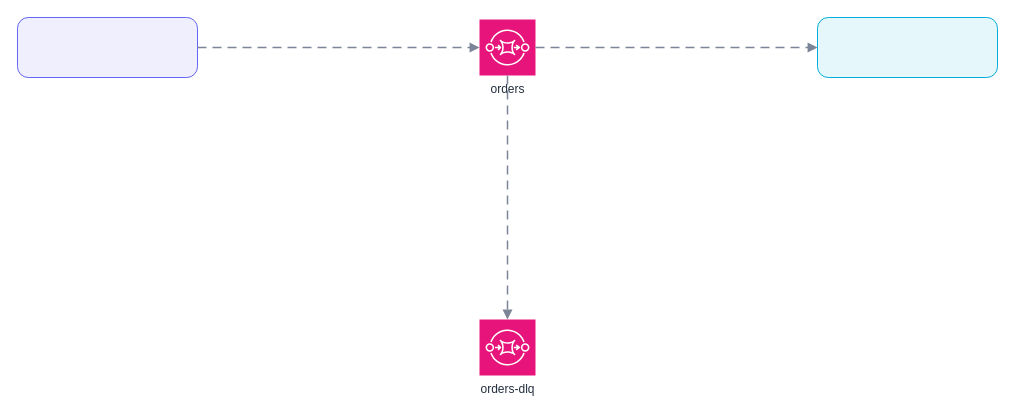
This 1015x414 diagram has some shape labels left out. The shapes that lost their labels are listed below. From the top down, each one's centre as x and y in pixels, then its label:
At (x=107, y=47): "Web".
At (x=907, y=47): "Worker".
